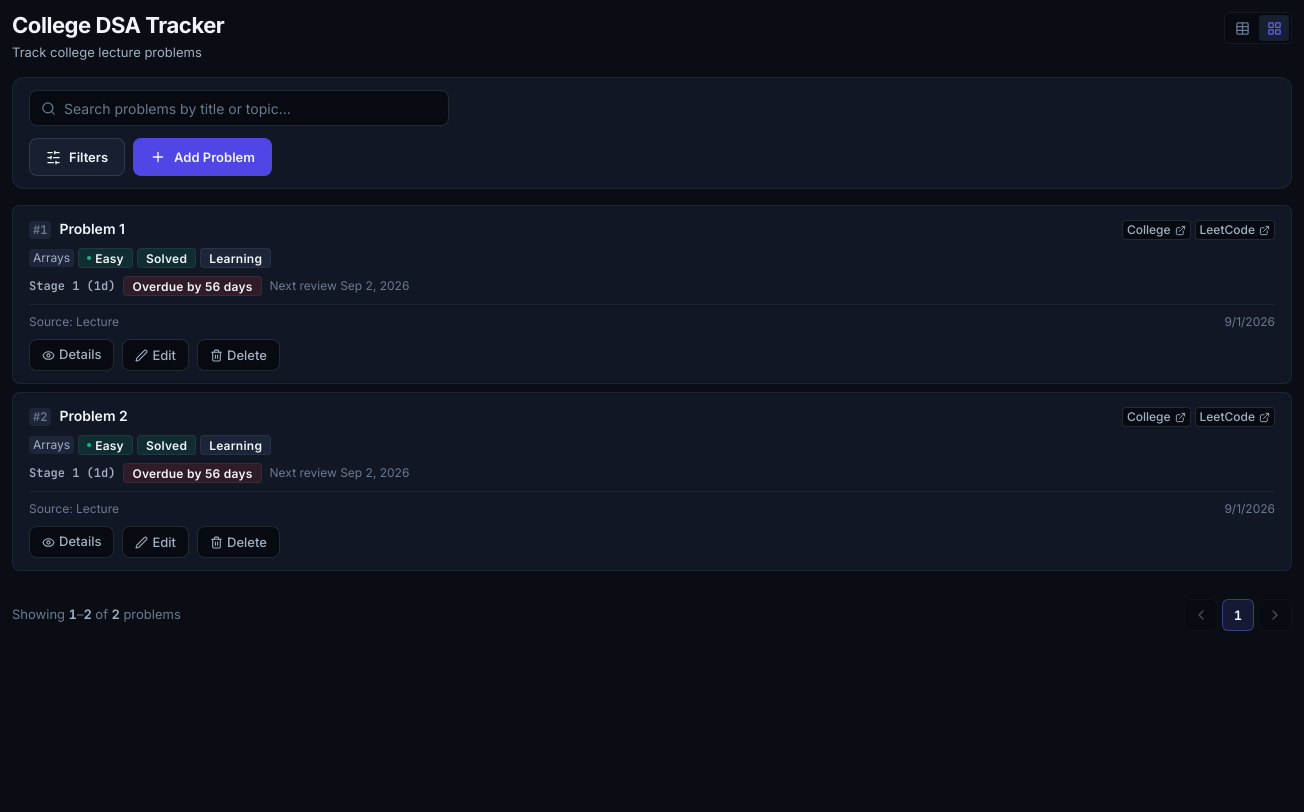
Phase 6 — Tracker responsive defaults › still lets the user switch to the table view on a narrow screen
The explicit choice wins over the viewport default.
Click the button titled "Table view" at (1242, 28), box [1227,15,1257,41]
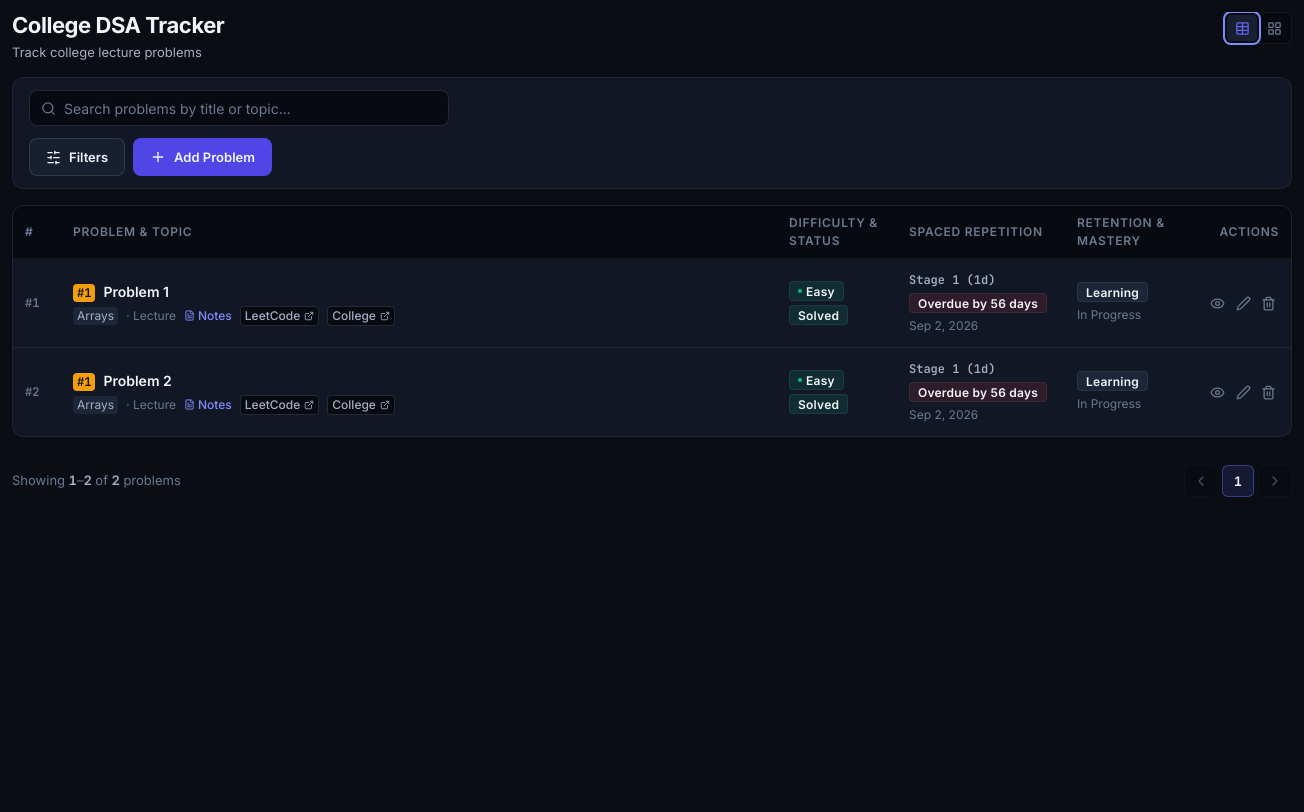
Check: the table is shown, box [13,206,1291,436]
Click the button titled "Card view" at (1274, 28), box [1259,15,1289,41]
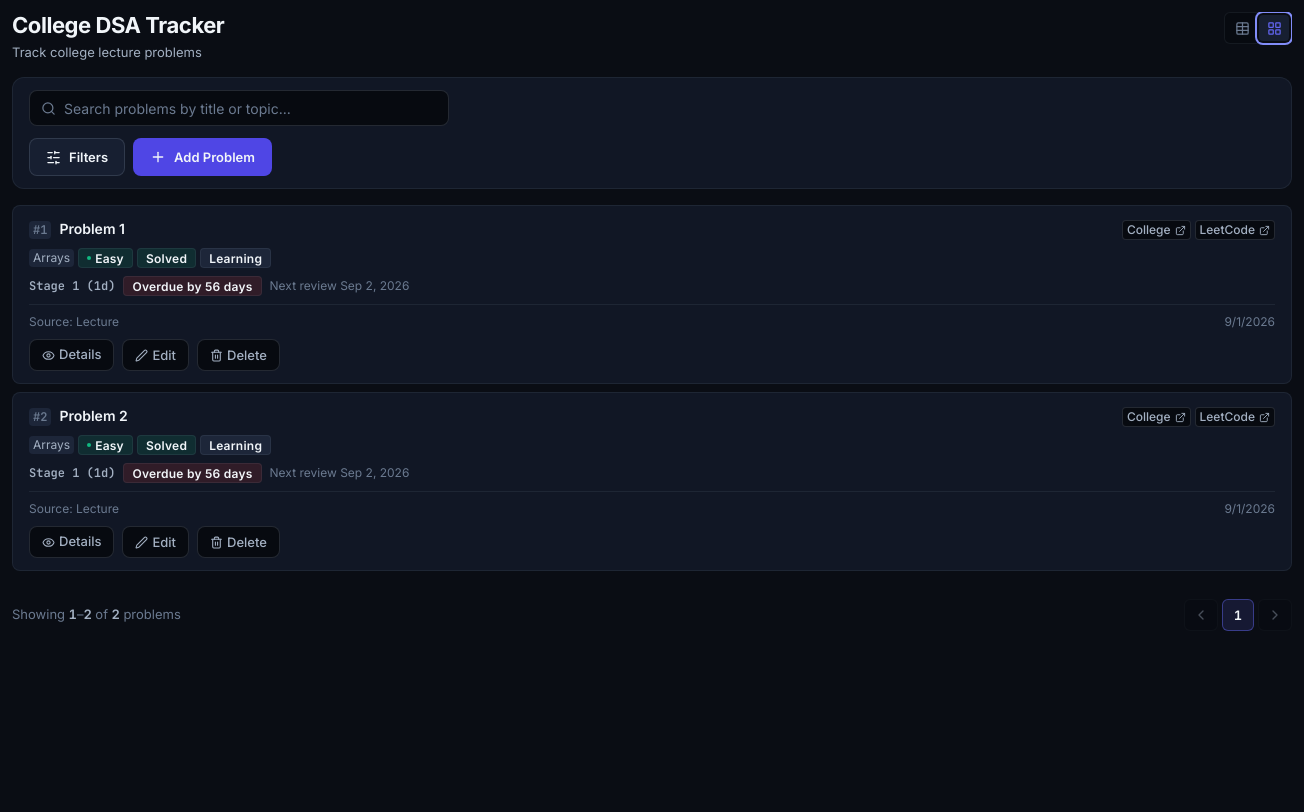
Check: the table is gone
